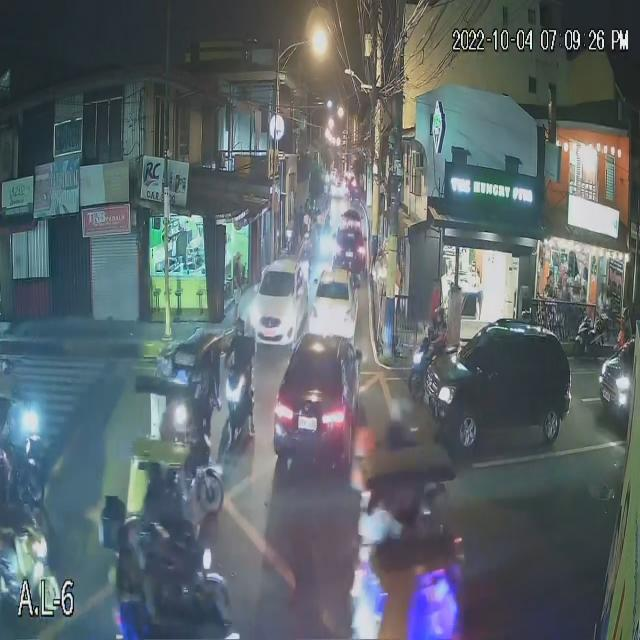helmet: (232, 316, 246, 337), (433, 303, 447, 324)
motorcycle: (109, 546, 233, 635), (224, 379, 259, 448), (574, 325, 616, 355), (407, 339, 428, 397)
rider: (227, 335, 256, 396), (430, 323, 452, 354)
